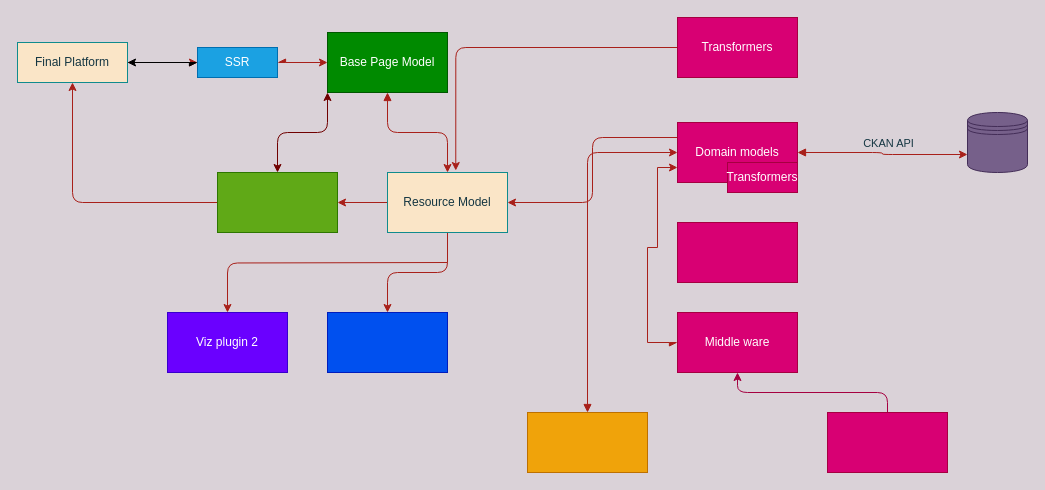
The diagram is 1045 pixels wide and 490 high, and some of its shapes have lost their labels. Here are the shapes that lost their labels. From the top down, the centre of each, then its label:
point 277,202: Headless CMS
point 737,252: Auth models
point 387,342: Viz Plugin 1
point 587,442: Open API
point 887,442: Scrapers & Data miners
